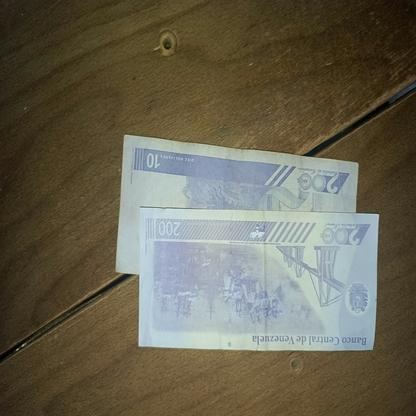ten-back-vef: (114, 134, 360, 275)
two_hundred-back-vef: (136, 205, 380, 351)
